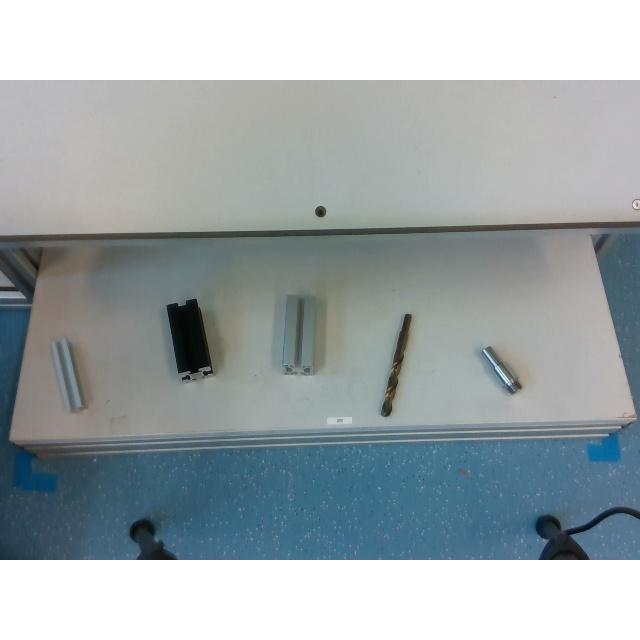Axis2: (481, 344, 521, 392)
Drill: (381, 312, 412, 416)
F20_20_G: (51, 337, 83, 409)
S40_40_B: (166, 299, 212, 379)
S40_40_G: (282, 294, 318, 372)
